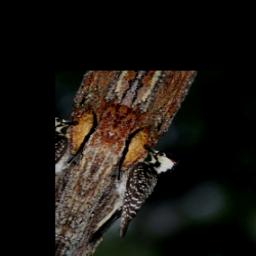Woodpecker: (77, 136, 188, 256)
